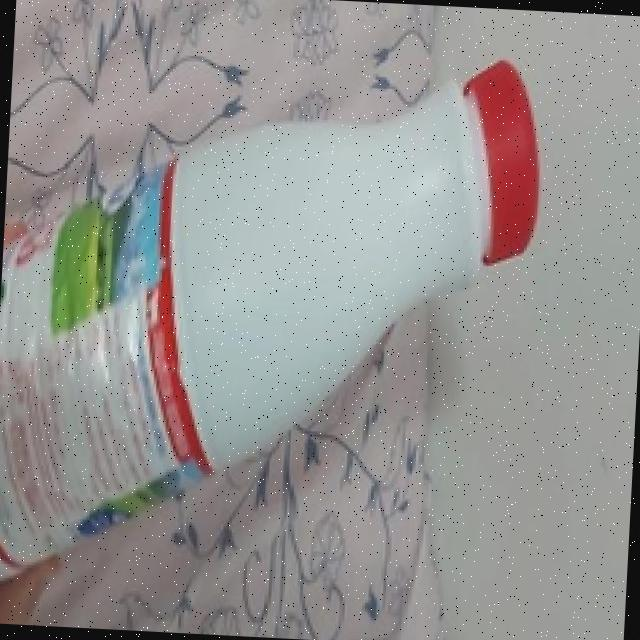bottle: (0, 13, 604, 602)
cap: (461, 60, 544, 278)
label: (0, 143, 198, 582)
